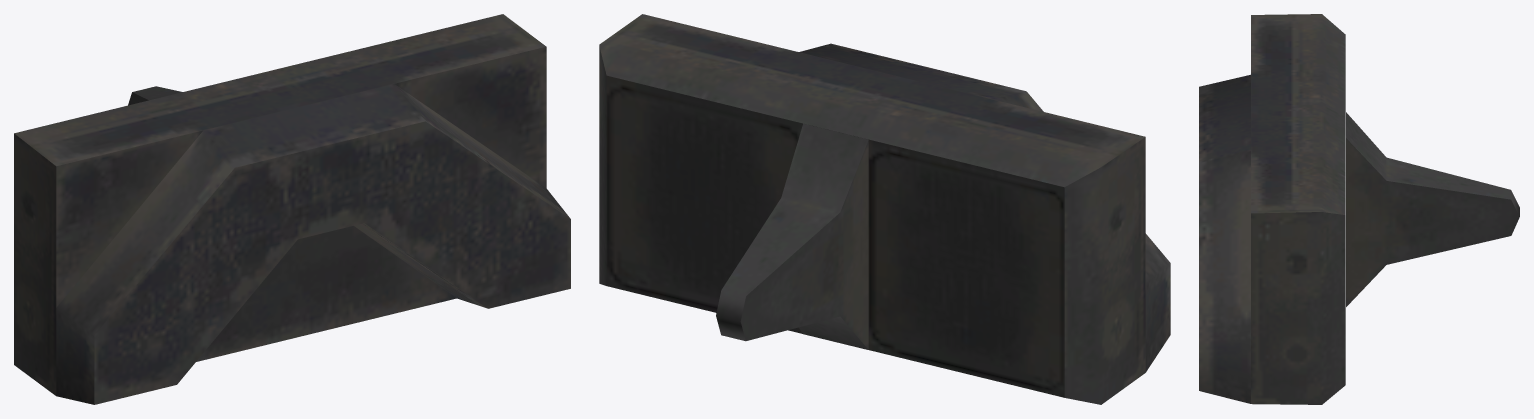
The picture shows the model from 3 angles, left to right: view 1: azimuth 30°, elevation 25°; view 2: azimuth 150°, elevation 25°; view 3: azimuth 270°, elevation 25°; orthographic projection. The views are drawn at different scales.
Visible parts, largest first — view 1: set_0_group_0; view 2: set_0_group_0; view 3: set_0_group_0.
Boxes of the visible parts, left/top/right/bottom form: set_0_group_0: left=14, top=14, right=570, bottom=404; set_0_group_0: left=599, top=14, right=1170, bottom=404; set_0_group_0: left=1199, top=14, right=1519, bottom=404.
Bounding box in the file's own units: 0.3127 × 0.1419 × 0.2136.
Materials: 1 (1 with a texture image).
